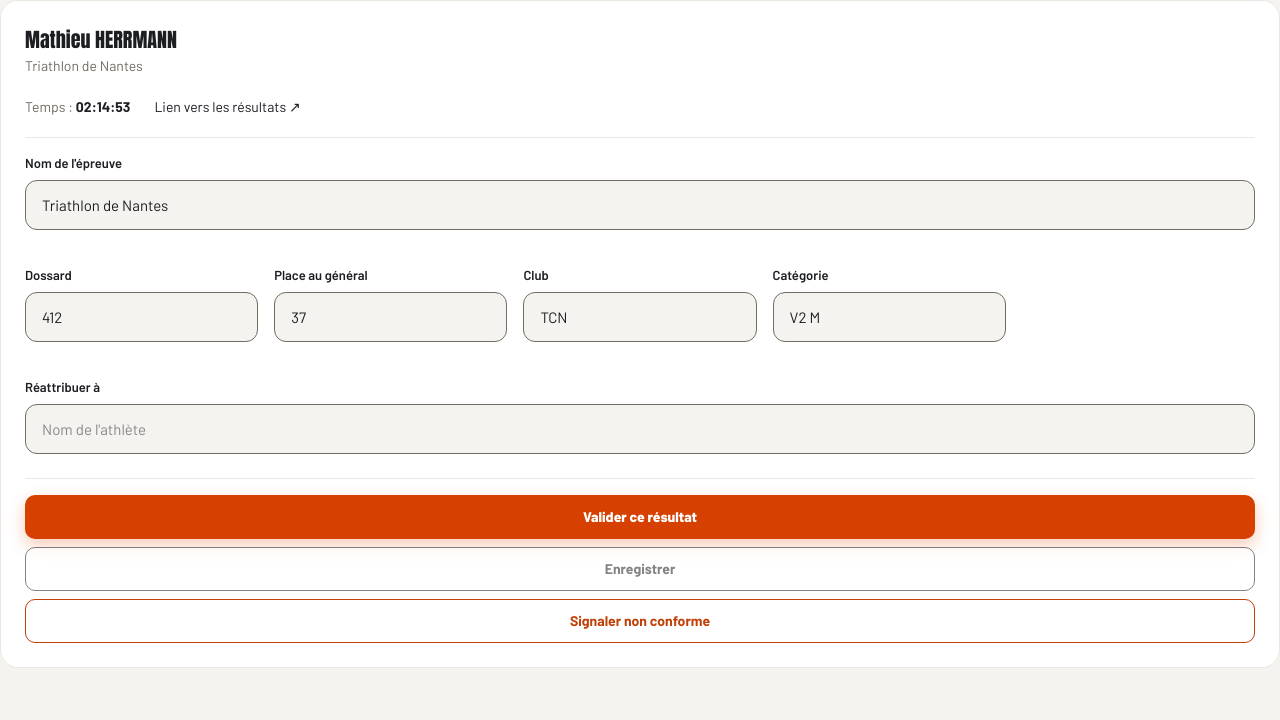
it: ParticipationPanel — erreurs › signale un conflit de réattribution en français
Type "Kerm" into the field labelled "Réattribuer à" at (640, 429), box [42,418,1238,440]
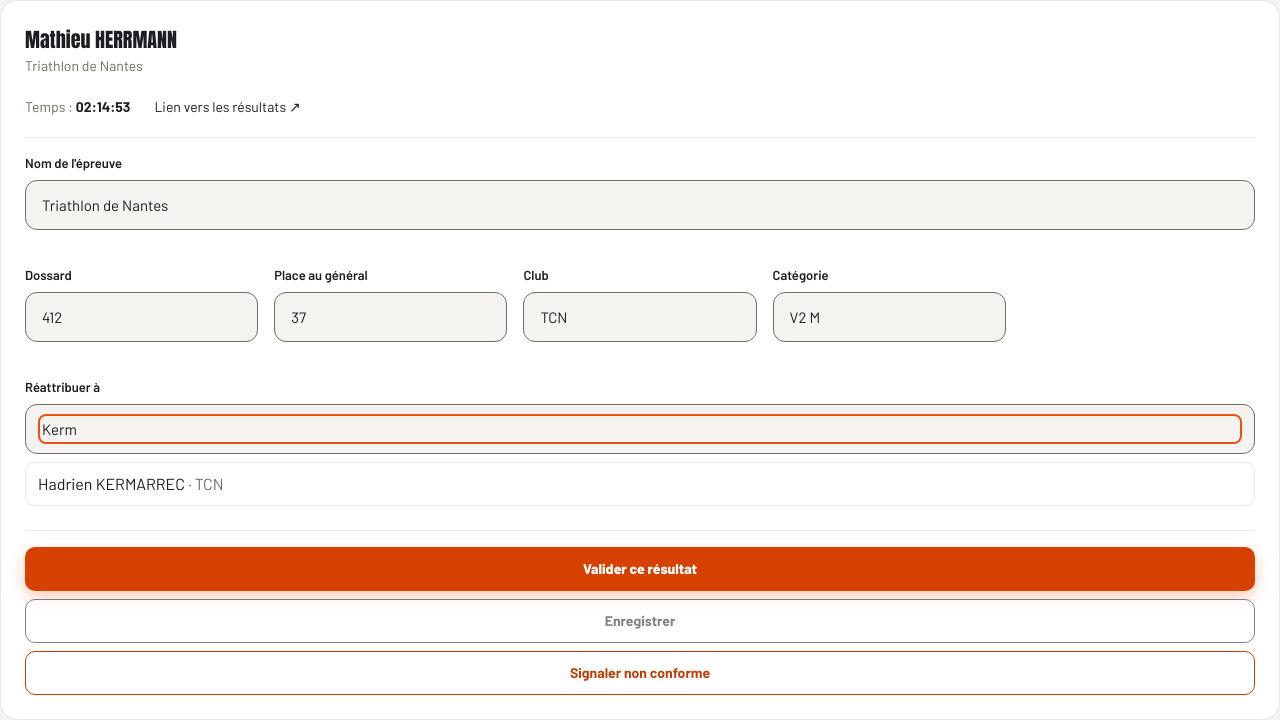
Expected: the button "Hadrien KERMARREC · TCN" is shown
Click the button "Hadrien KERMARREC · TCN" at (112, 484), box [25,462,1255,506]
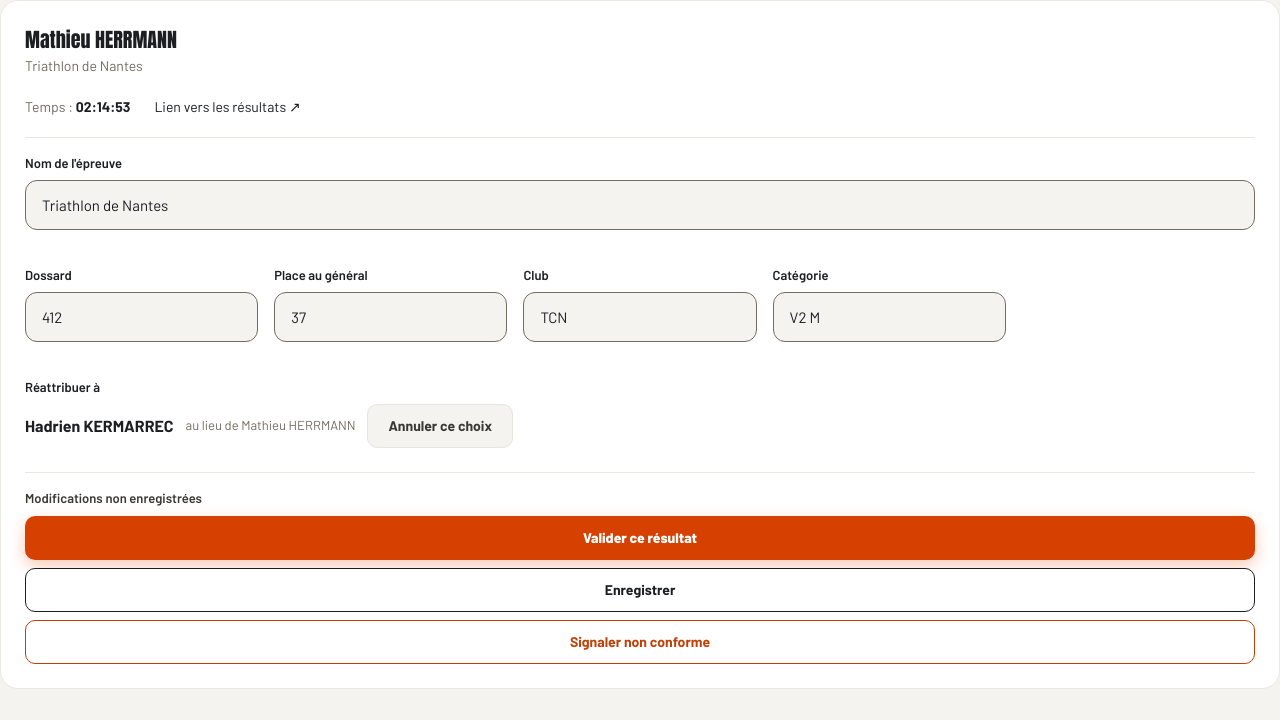
Click the button "Enregistrer" at (640, 590), box [25,568,1255,612]
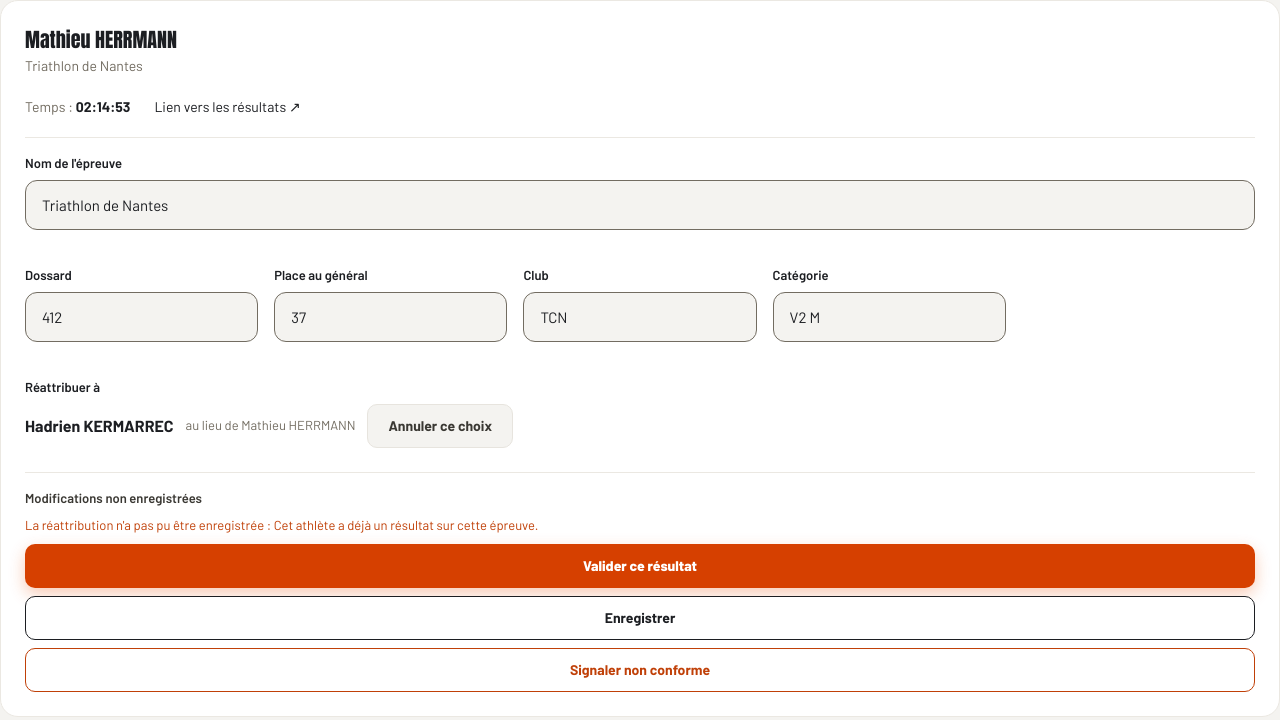
Expected: the message shows "Cet athlète a déjà un résultat sur cette épreuve.", [25,517,538,533]
